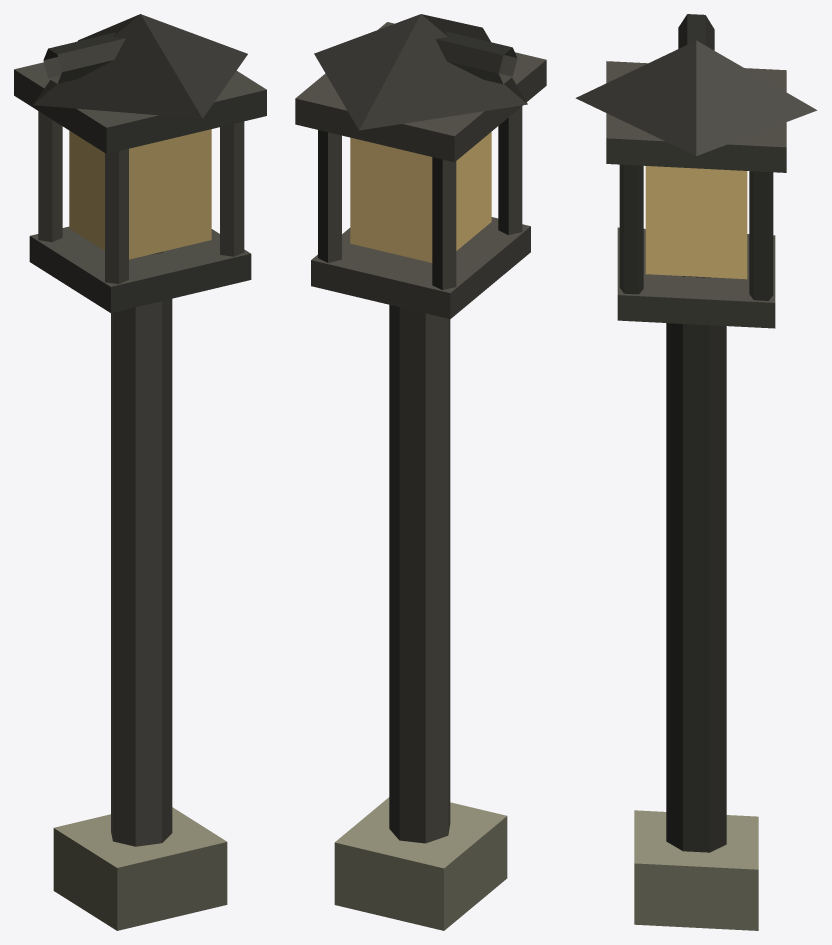
3 views of the same model, side by side, from view 1: azimuth 30°, elevation 25°; view 2: azimuth 150°, elevation 25°; view 3: azimuth 270°, elevation 25° (orthographic). The views are drawn at different scales.
Parts seen in each view (by area): view 1: 61f5c3fc6eb0b9b3b5445af9483393c8f8d501a9585de0e07a0aa2afcbaf; view 2: 61f5c3fc6eb0b9b3b5445af9483393c8f8d501a9585de0e07a0aa2afcbaf; view 3: 61f5c3fc6eb0b9b3b5445af9483393c8f8d501a9585de0e07a0aa2afcbaf.
Part boxes in pixels (x1,y1,x2,y2): 61f5c3fc6eb0b9b3b5445af9483393c8f8d501a9585de0e07a0aa2afcbaf: [14, 14, 266, 930]; 61f5c3fc6eb0b9b3b5445af9483393c8f8d501a9585de0e07a0aa2afcbaf: [295, 14, 546, 930]; 61f5c3fc6eb0b9b3b5445af9483393c8f8d501a9585de0e07a0aa2afcbaf: [575, 14, 817, 930].
Size of the model in its own units: 0.86 by 3.38 by 0.86.
Materials: 2 (1 with a texture image).
